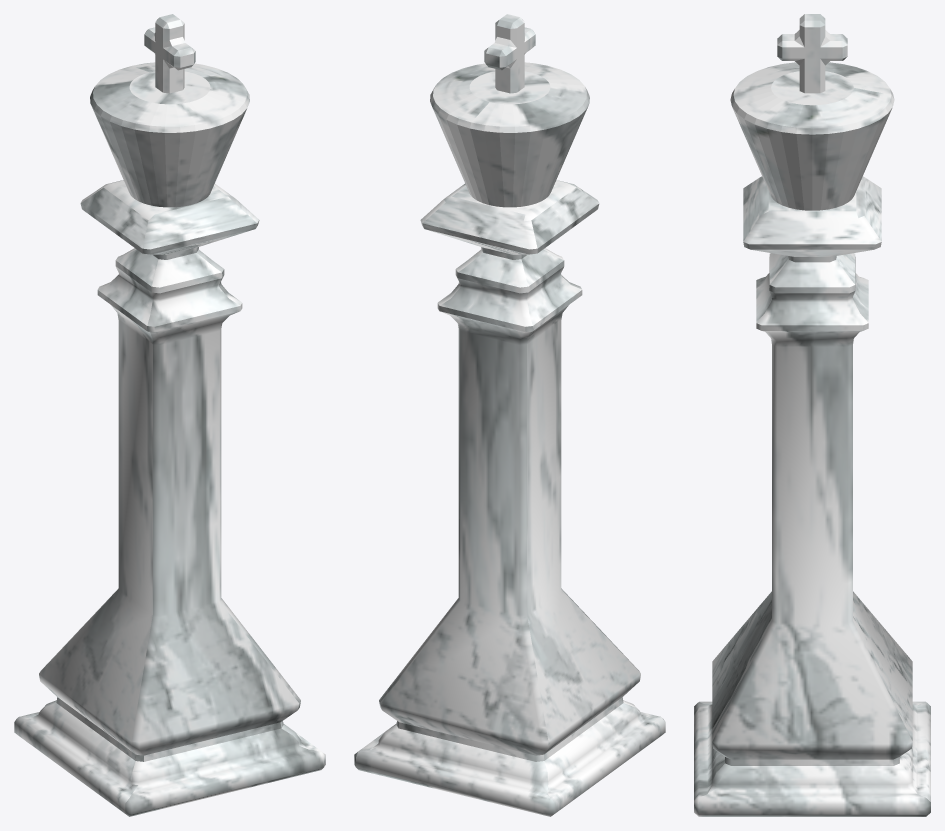
Rendered from chess_king_01-white.glb.
The picture shows the model from 3 angles, left to right: view 1: azimuth 30°, elevation 25°; view 2: azimuth 150°, elevation 25°; view 3: azimuth 270°, elevation 25°; orthographic projection. The views are drawn at different scales.
Visible parts, largest first — view 1: king_01; view 2: king_01; view 3: king_01.
Part boxes in pixels (bbox=[...]): king_01: bbox=[14, 14, 325, 816]; king_01: bbox=[354, 14, 665, 816]; king_01: bbox=[694, 14, 930, 816].
Size of the model in its own units: 0.5712 by 2 by 0.5712.
Materials: 1 (1 with a texture image).
